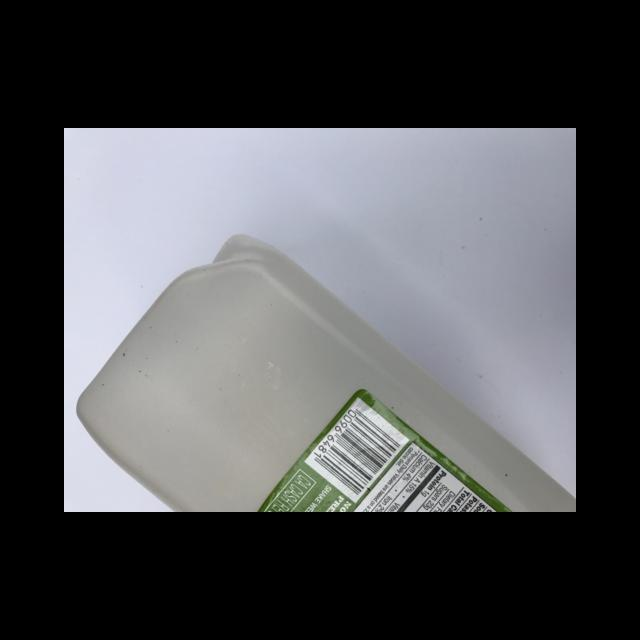plastic: (75, 234, 575, 511)
